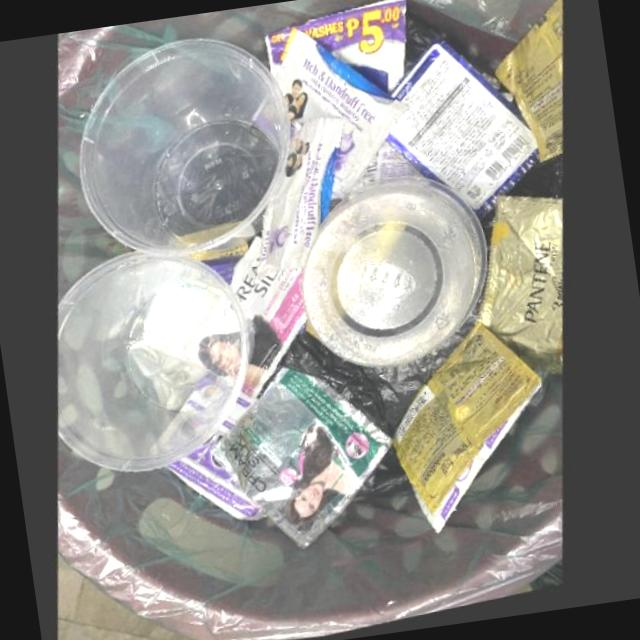goi_nhua_nho: (215, 372, 397, 554), (397, 329, 546, 541), (388, 43, 543, 228), (277, 36, 409, 204), (481, 203, 567, 384), (258, 123, 346, 286), (266, 2, 408, 101), (233, 240, 311, 406), (497, 4, 565, 172)
hop_nhua: (81, 42, 293, 259), (60, 254, 257, 474), (305, 182, 491, 373)
